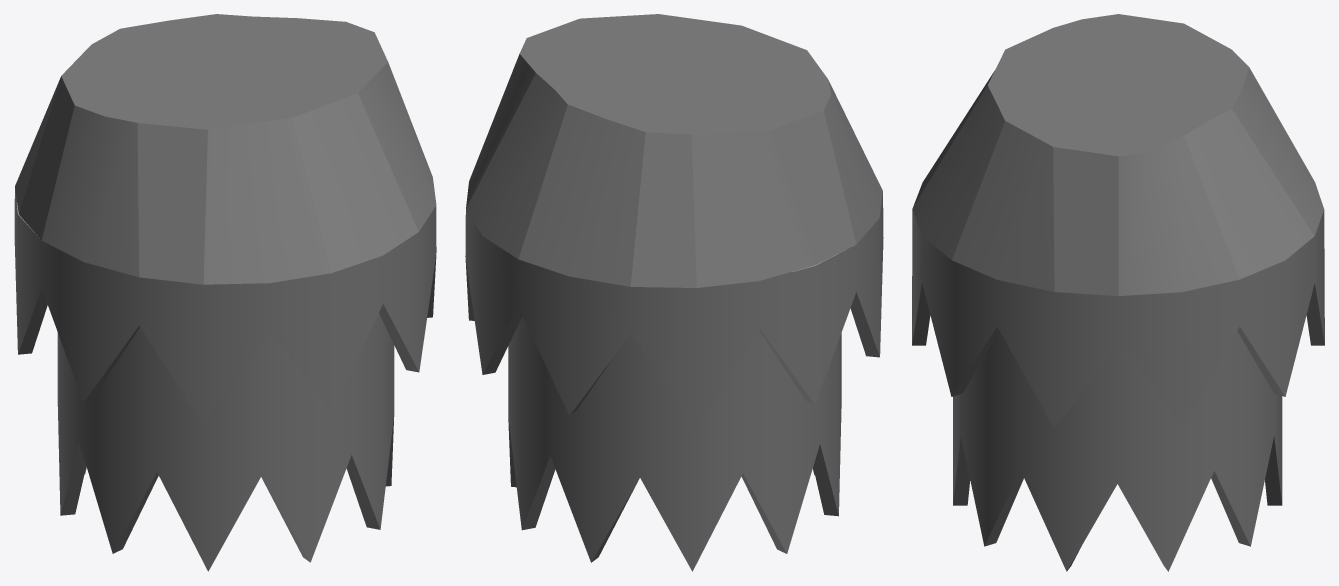
File: Tail.fbx
The picture shows the model from 3 angles, left to right: view 1: azimuth 30°, elevation 25°; view 2: azimuth 150°, elevation 25°; view 3: azimuth 270°, elevation 25°; orthographic projection. The views are drawn at different scales.
Visible parts, largest first — view 1: Cola; view 2: Cola; view 3: Cola.
Boxes of the visible parts, left/top/right/bottom form: Cola: left=14, top=14, right=436, bottom=571; Cola: left=465, top=14, right=883, bottom=571; Cola: left=912, top=14, right=1324, bottom=571.
Bounding box in the file's own units: 82.97 × 93.14 × 82.95.
